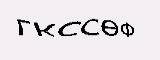Г: (11, 16, 30, 37)
К: (34, 17, 55, 39)
С: (80, 16, 103, 36), (59, 18, 81, 36)
Ф: (119, 16, 135, 39)
Ө: (102, 12, 120, 39)
